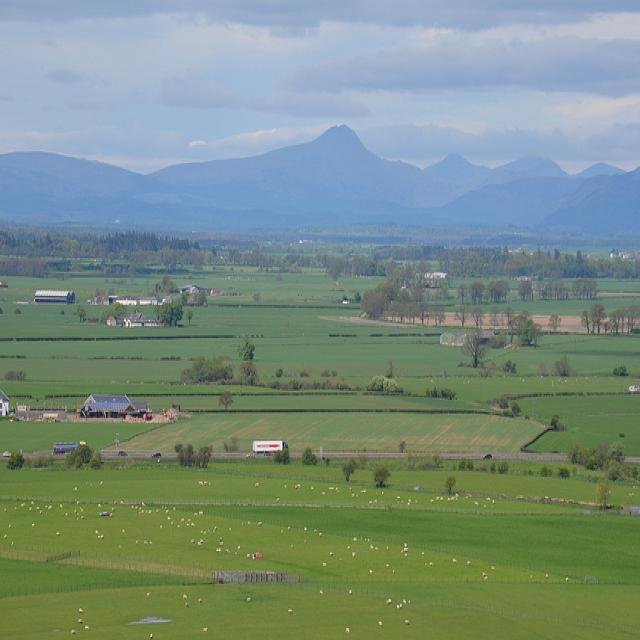Vehicle: (252, 439, 291, 453), (483, 454, 492, 461), (151, 452, 163, 457), (117, 451, 128, 456)
